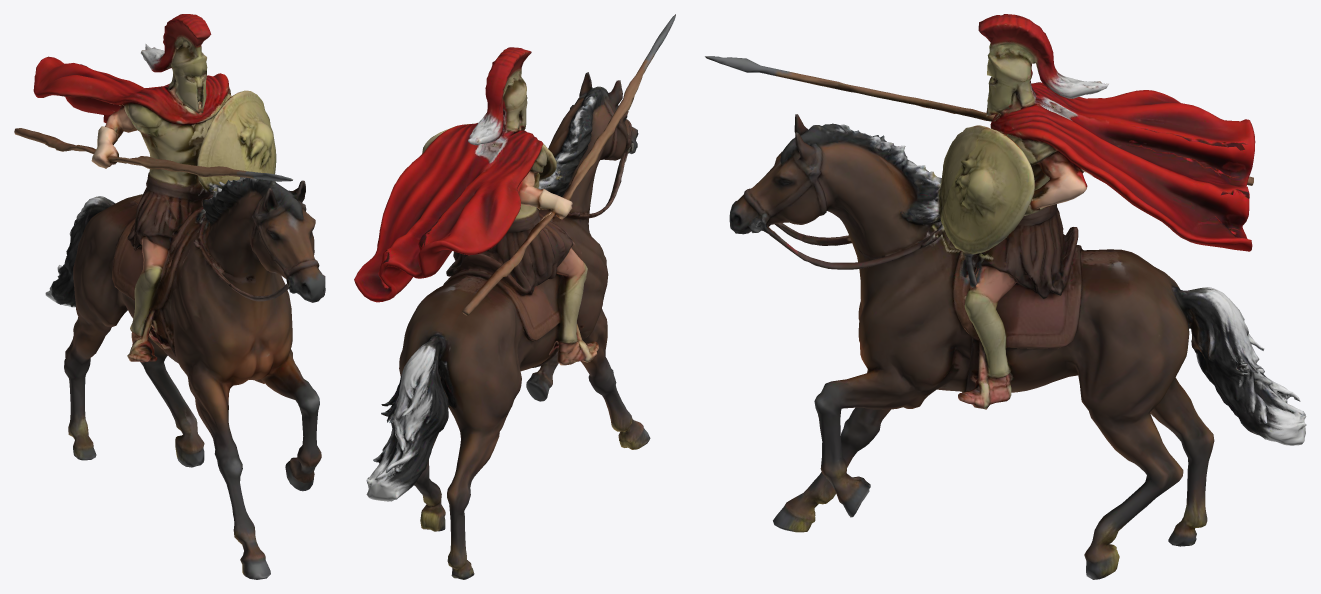
Rendered from Meshy_AI_ancient_greek_soldier_0318050520_texture.glb.
3 views of the same model, side by side, from view 1: azimuth 30°, elevation 25°; view 2: azimuth 150°, elevation 25°; view 3: azimuth 270°, elevation 25° (orthographic). The views are drawn at different scales.
Parts seen in each view (by area): view 1: Mesh1.0; view 2: Mesh1.0; view 3: Mesh1.0.
Boxes of the visible parts, <box> form: Mesh1.0: <box>14,14,325,579</box>; Mesh1.0: <box>354,14,675,579</box>; Mesh1.0: <box>705,14,1306,579</box>.
Bounding box in the file's own units: 0.6709 × 1.89 × 1.91.
1 material, 1 textured.
